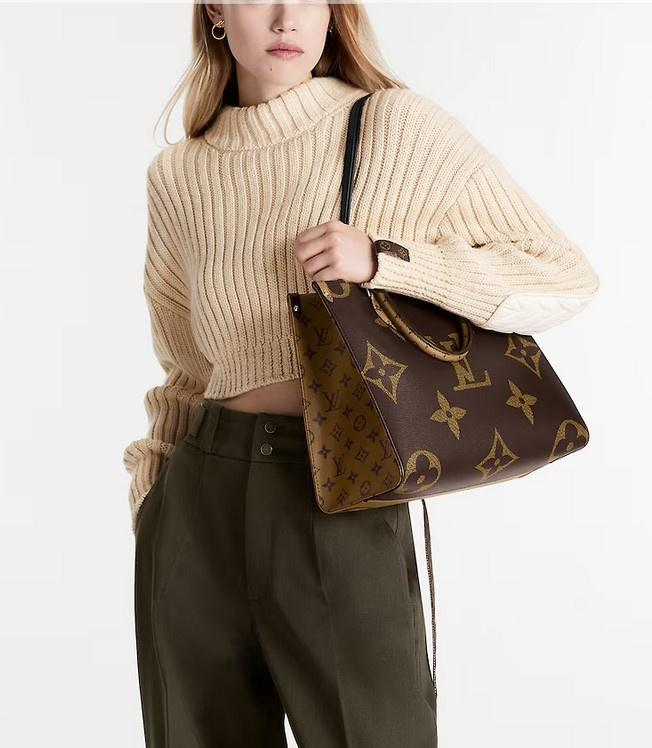LOUIS-VUITTON: (290, 291, 591, 511)
